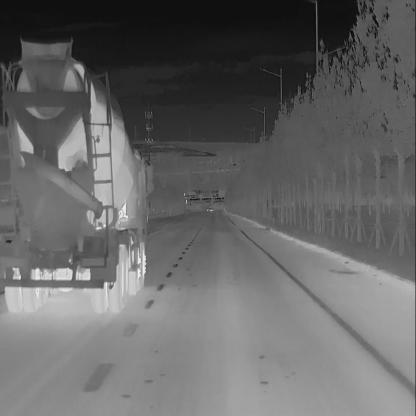car: (206, 206, 214, 213)
truck: (1, 33, 156, 319)
